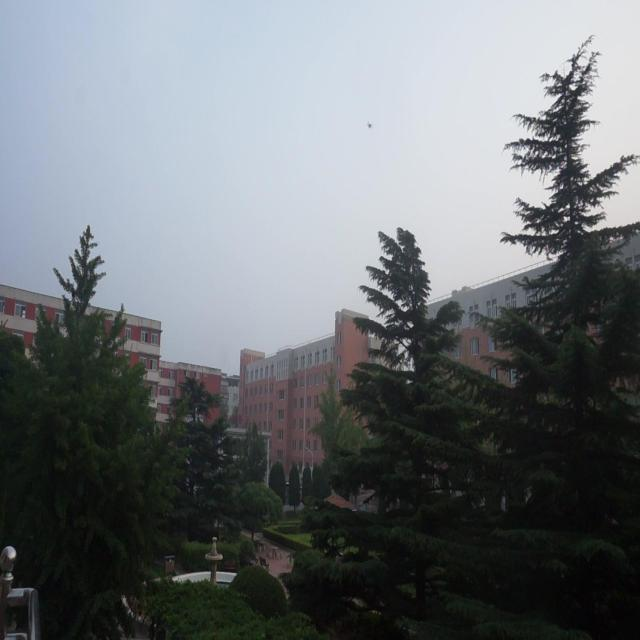drone: (365, 116, 375, 132)
